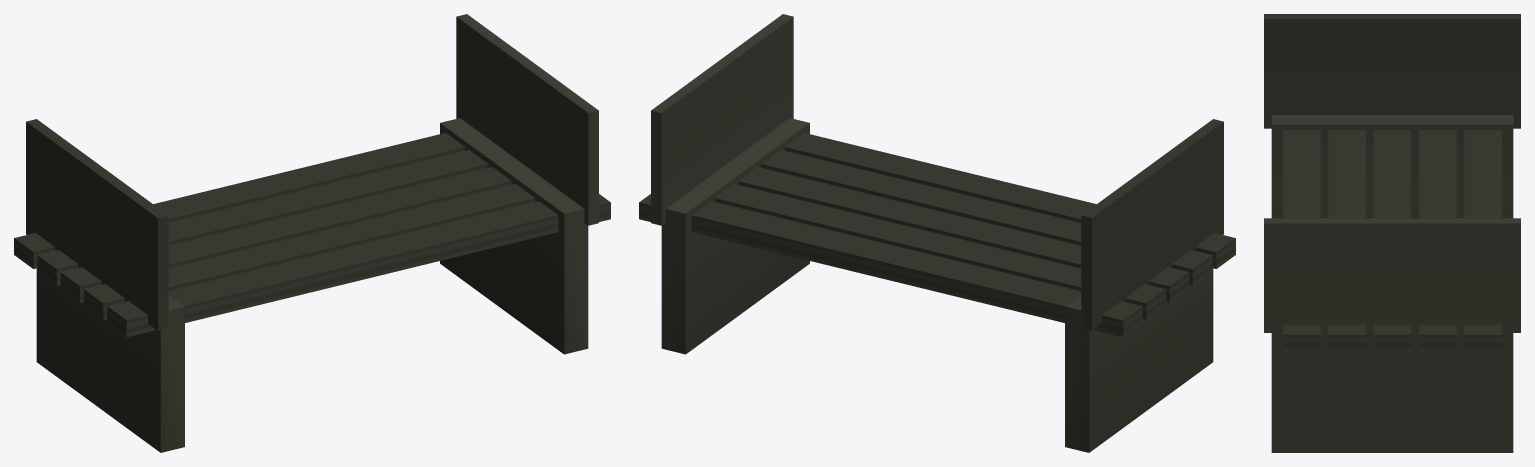
The model's file is env_bridge_pylon_concrete_a.glb.
3 renders of one model, left to right at view 1: azimuth 30°, elevation 25°; view 2: azimuth 150°, elevation 25°; view 3: azimuth 270°, elevation 25°, orthographic. The views are drawn at different scales.
Visible parts, largest first — view 1: env_bridge_pylon_concrete_a; view 2: env_bridge_pylon_concrete_a; view 3: env_bridge_pylon_concrete_a.
Part boxes in pixels (box(x1,y1,x2,y2)): env_bridge_pylon_concrete_a: box(14, 14, 610, 452); env_bridge_pylon_concrete_a: box(639, 14, 1235, 452); env_bridge_pylon_concrete_a: box(1264, 14, 1520, 452).
Size of the model in its own units: 3.6 by 1.7 by 1.7.
1 material, 1 textured.
